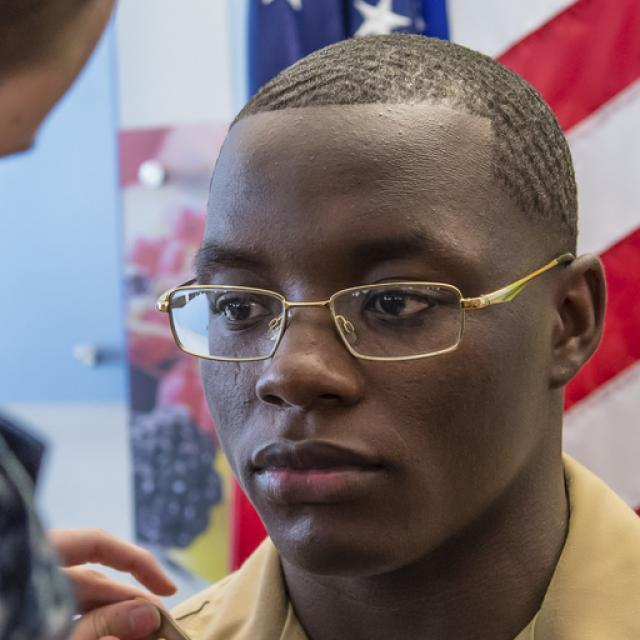neutral: (186, 92, 549, 576)
